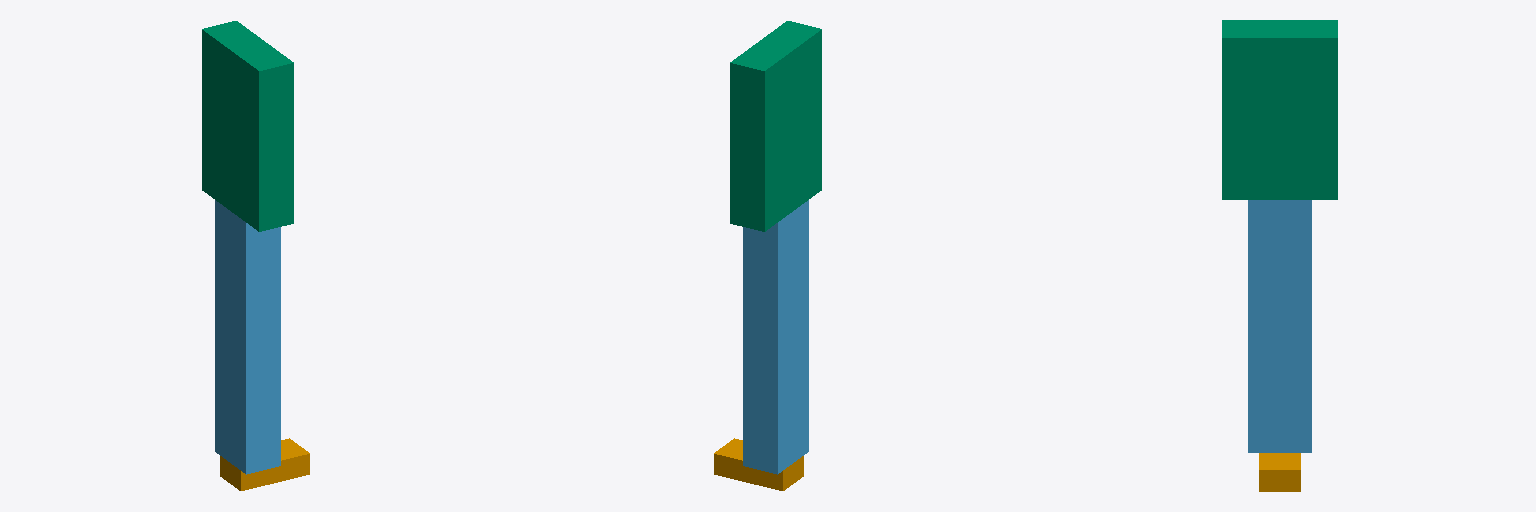
robot.urdf — threeLinkHuman_subject12:
<robot name="threeLinkHuman_subject12">
    <link name="foot">
        <inertial>
            <mass value="3.048"/>
            <origin xyz="0 0 0.03366" rpy="0 0 0" />
            <inertia ixx="0.0048307" iyy="0.015098" izz="0.017626" ixy="0" ixz="0" iyz="0"/>
        </inertial>

        <visual>
			<origin xyz="0 0 0.03366" rpy="0 0 0" />
            <geometry>
                <box size="0.23433 0.12036 0.067319"/>
            </geometry>
        </visual>

        <collision>
			<origin xyz="0 0 0.03366" rpy="0 0 0" />
            <geometry>
                <box size="0.23433 0.12036 0.067319"/>
            </geometry>
        </collision>
    </link>
    
    <link name="leg">
        <inertial>
            <mass value="28.1065"/>
            <origin xyz="0 0 0.40473" rpy="0 0 0" />
            <inertia ixx="1.6145" iyy="1.5668" izz="0.11198" ixy="0" ixz="0" iyz="0"/>
        </inertial>

        <visual>
            <origin xyz="0 0 0.40473" rpy="0 0 0" />
            <geometry>
                <box size="0.11716 0.18461 0.80946"/>
            </geometry>
        </visual>

        <collision>
            <origin xyz="0 0 0.40473" rpy="0 0 0" />
            <geometry>
                <box size="0.11716 0.18461 0.80946"/>
            </geometry>
        </collision>
    </link>
    
    <link name="torso">
        <inertial>
            <mass value="32.6978"/>
            <origin xyz="0 0 0.25834" rpy="0 0 0" />
            <inertia ixx="1.0359" iyy="0.76484" izz="0.34587" ixy="0" ixz="0" iyz="0"/>
        </inertial>

        <visual>
            <origin xyz="0 0 0.25834" rpy="0 0 0" />
            <geometry>
                <box size="0.11716 0.33646 0.51669"/>
            </geometry>
        </visual>

        <collision>
            <origin xyz="0 0 0.25834" rpy="0 0 0" />
            <geometry>
                <box size="0.11716 0.33646 0.51669"/>
            </geometry>
        </collision>
    </link>
        
    <joint name="ankle" type="revolute">
        <origin xyz="-0.058581 0 0.067319" rpy="0 0 0"/>
        <parent link="foot"/>
        <child link="leg"/>
        <dynamics damping="0.1" friction="0.0"/>
        <limit effort="30" velocity="1.0" lower="-10.0" upper="10.0" />
        <axis xyz="0 1 0" />
    </joint>
    
    <joint name="hip" type="revolute">
        <origin xyz="0 0 0.80946" rpy="0 0 0"/>
        <parent link="leg"/>
        <child link="torso"/>
        <dynamics damping="0.1" friction="0.0"/>
        <limit effort="30" velocity="1.0" lower="-10.0" upper="10.0" />
        <axis xyz="0 1 0" />
    </joint>

</robot>

--- What the picture shows (computed from the rendered views, not written in the file) ---
The picture shows the robot from 3 angles, left to right: view 1: azimuth 30°, elevation 25°; view 2: azimuth 150°, elevation 25°; view 3: azimuth 270°, elevation 25°; orthographic projection.
Model threeLinkHuman_subject12 with 3 links and 2 joints (2 revolute), rooted at foot, posed every joint at zero.
Visible links, largest first — view 1: torso, leg, foot; view 2: torso, leg, foot; view 3: torso, leg, foot.
Boxes of the visible links, x1,y1,x2,y2 form: torso: (202, 21, 293, 231); leg: (215, 200, 280, 474); foot: (220, 438, 309, 490); torso: (730, 21, 821, 231); leg: (743, 200, 808, 474); foot: (714, 438, 803, 490); torso: (1222, 20, 1337, 199); leg: (1248, 200, 1311, 452); foot: (1259, 453, 1300, 491).
Size in the robot's own frame: 0.2343 by 0.3365 by 1.39 metres.
Geometry: primitives only (box / cylinder / sphere), no mesh files.
